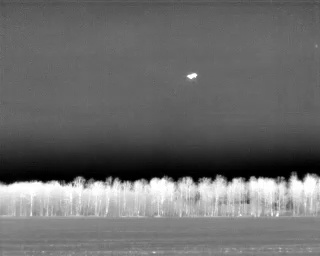DRONE: (183, 68, 202, 85)
